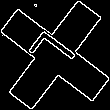L_SE: (25, 27, 85, 83)
